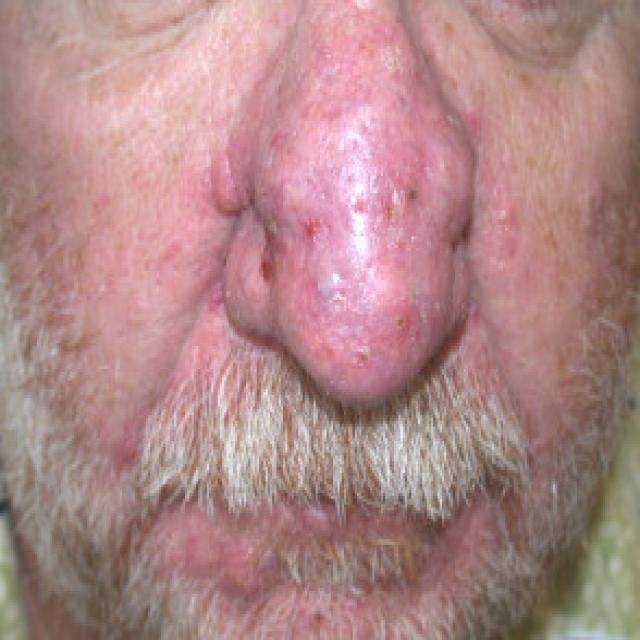Rosacea: (244, 39, 462, 373)
